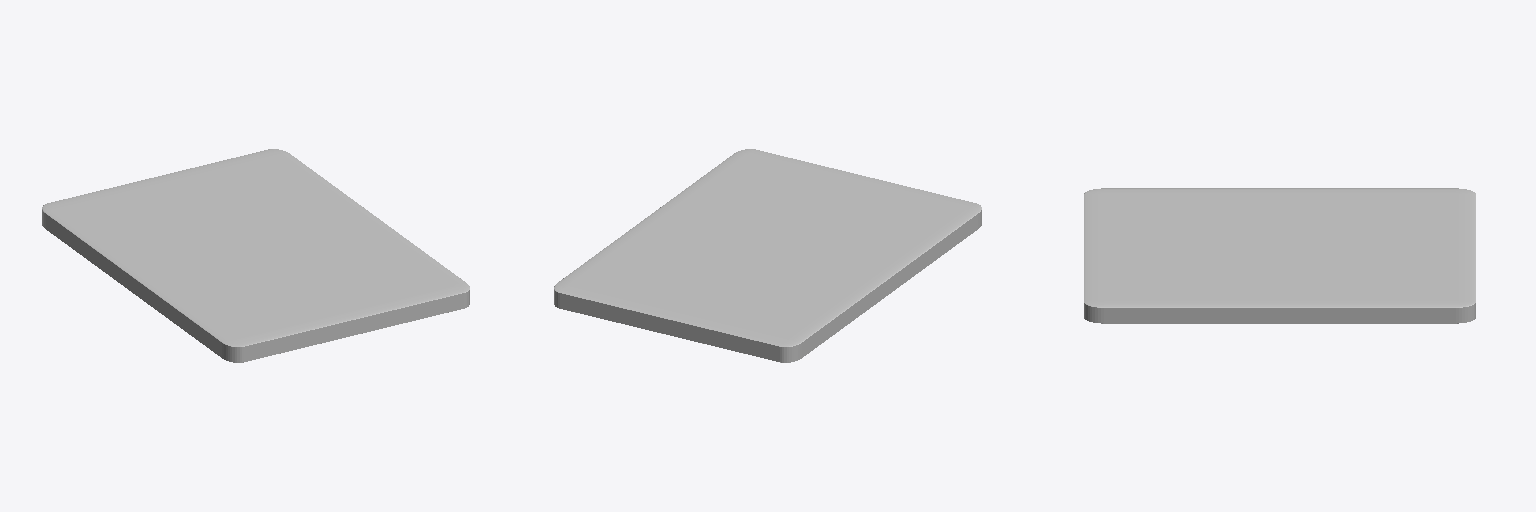
Rendered from materac.obj.
The picture shows the model from 3 angles: view 1: azimuth 30°, elevation 25°; view 2: azimuth 150°, elevation 25°; view 3: azimuth 270°, elevation 25°; orthographic projection.
Visible parts, largest first — view 1: Cube.013; view 2: Cube.013; view 3: Cube.013.
Part boxes in pixels (left/top/right/bottom): Cube.013: left=42, top=149, right=469, bottom=362; Cube.013: left=554, top=149, right=981, bottom=362; Cube.013: left=1084, top=188, right=1475, bottom=323.
Bounding box in the file's own units: 1.47 × 0.1 × 2.04.